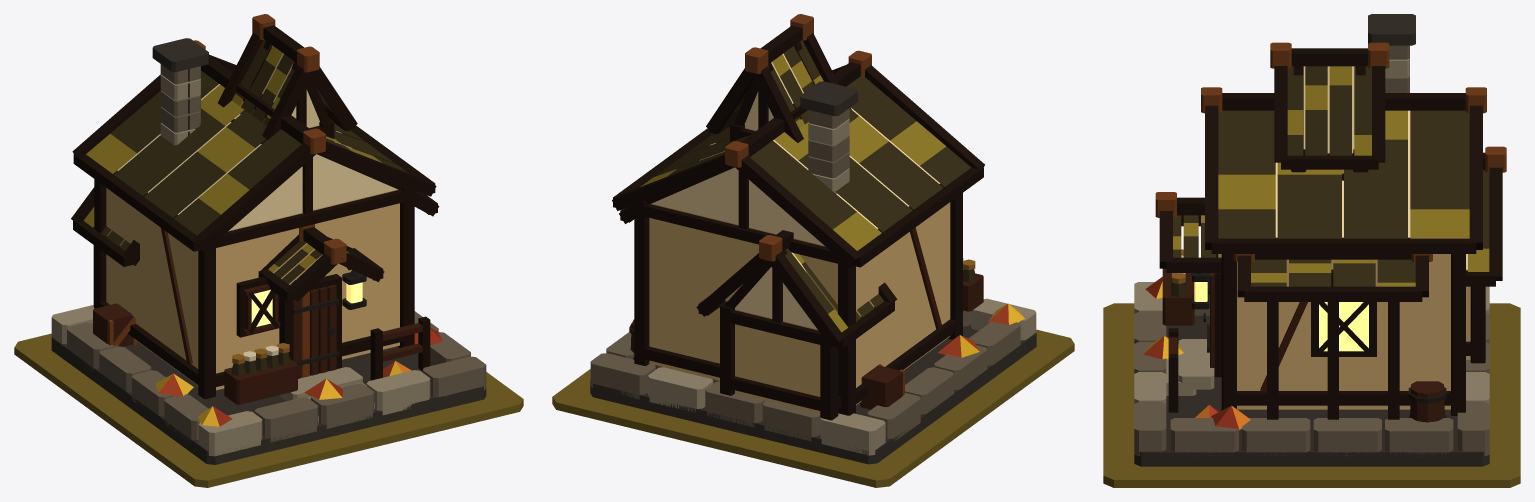
The model's file is cottage_t6.glb.
3 views of the same model, side by side, from view 1: azimuth 30°, elevation 25°; view 2: azimuth 150°, elevation 25°; view 3: azimuth 270°, elevation 25° (orthographic). The views are drawn at different scales.
Visible parts, largest first — view 1: MMR | cottage | T06 Architecture.001, MMR | cottage | Tier 06 Ground.001, MMR | cottage | T06 Autumn Dressing.001; view 2: MMR | cottage | T06 Architecture.001, MMR | cottage | Tier 06 Ground.001, MMR | cottage | T06 Autumn Dressing.001; view 3: MMR | cottage | T06 Architecture.001, MMR | cottage | Tier 06 Ground.001, MMR | cottage | T06 Autumn Dressing.001.
Part boxes in pixels (bbox=[...]): MMR | cottage | T06 Architecture.001: bbox=[51, 14, 486, 464]; MMR | cottage | Tier 06 Ground.001: bbox=[14, 333, 523, 487]; MMR | cottage | T06 Autumn Dressing.001: bbox=[155, 327, 442, 426]; MMR | cottage | T06 Architecture.001: bbox=[590, 14, 1036, 464]; MMR | cottage | Tier 06 Ground.001: bbox=[552, 329, 1074, 487]; MMR | cottage | T06 Autumn Dressing.001: bbox=[938, 303, 1024, 357]; MMR | cottage | T06 Architecture.001: bbox=[1134, 14, 1506, 466]; MMR | cottage | Tier 06 Ground.001: bbox=[1103, 303, 1520, 487]; MMR | cottage | T06 Autumn Dressing.001: bbox=[1143, 277, 1250, 430].
Bounding box in the file's own units: 2.35 × 2.27 × 2.35.
Materials: 2 (1 with a texture image).
